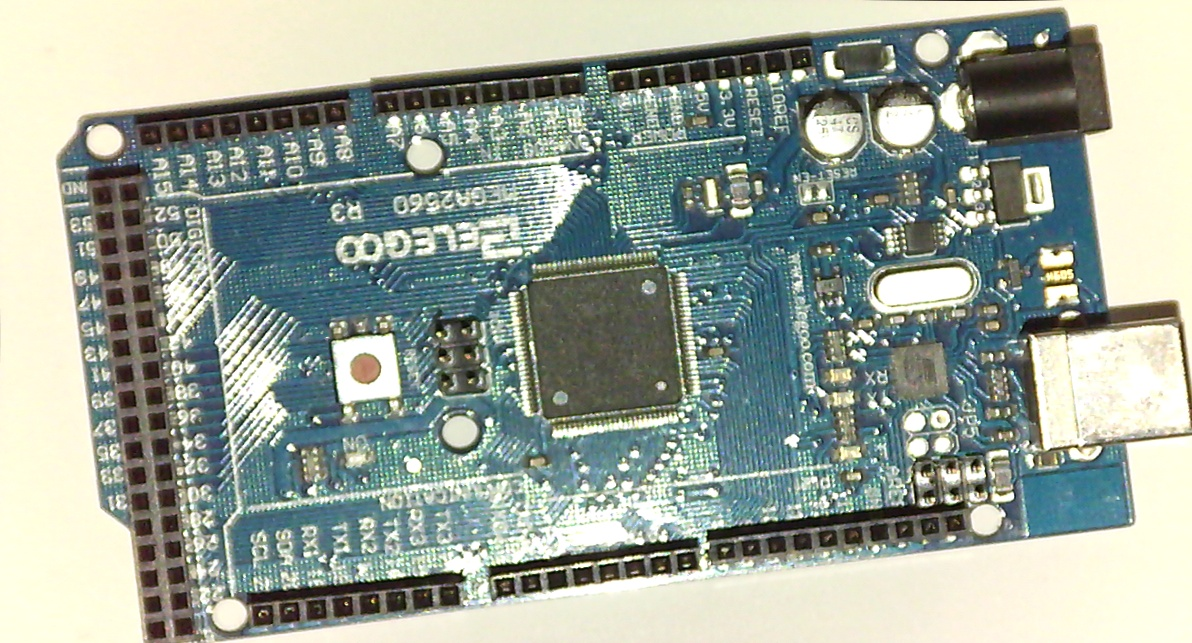IC: (513, 259, 697, 433), (957, 156, 1061, 226), (820, 41, 904, 81), (891, 345, 953, 399), (881, 220, 957, 261), (805, 263, 851, 310), (996, 254, 1036, 295)
LED: (336, 446, 380, 468), (825, 386, 863, 408), (828, 442, 868, 461), (820, 363, 856, 384)
capacitor: (795, 84, 871, 162), (870, 83, 939, 152), (526, 452, 552, 472), (943, 183, 962, 210), (1033, 450, 1065, 465), (867, 191, 892, 209), (704, 343, 731, 359), (686, 114, 713, 130), (947, 306, 974, 321), (752, 173, 766, 200), (814, 242, 840, 256), (807, 207, 829, 223), (853, 314, 878, 328), (978, 318, 1003, 332), (982, 297, 1000, 315), (999, 429, 1018, 445), (888, 313, 908, 327), (844, 470, 864, 483)
clock: (868, 262, 979, 308), (700, 174, 727, 216)
connector: (107, 174, 175, 642), (1023, 316, 1191, 443), (956, 39, 1117, 143), (710, 516, 972, 552), (130, 100, 354, 140), (246, 585, 465, 619), (491, 553, 701, 588), (370, 77, 587, 109), (603, 51, 816, 83), (429, 315, 488, 395), (910, 454, 990, 504)
diode: (989, 447, 1018, 505), (726, 163, 753, 219)
fuse: (1043, 247, 1075, 307)
resistor: (989, 366, 1014, 407), (823, 329, 851, 364), (833, 408, 860, 440), (301, 446, 322, 483), (899, 171, 920, 206), (914, 308, 946, 323), (988, 405, 1016, 419), (684, 179, 698, 207), (986, 350, 1007, 363)
switch: (328, 316, 405, 419)
